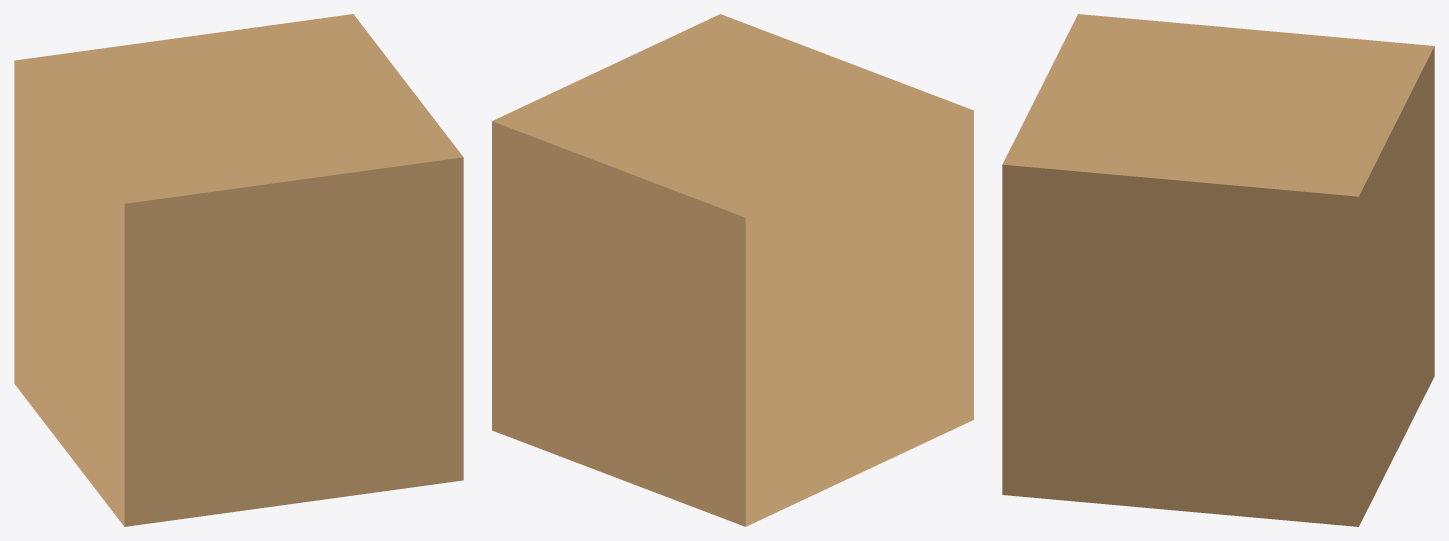
File: spline_extrapolation_display_bake.glb
3 views of the same model, side by side, from view 1: azimuth 30°, elevation 25°; view 2: azimuth 150°, elevation 25°; view 3: azimuth 270°, elevation 25° (orthographic). The views are drawn at different scales.
Parts seen in each view (by area): view 1: RockingCube; view 2: RockingCube; view 3: RockingCube.
Boxes of the visible parts, box(x1,y1,x2,y2) form: RockingCube: box(14, 14, 463, 526); RockingCube: box(492, 14, 973, 526); RockingCube: box(1002, 14, 1434, 526).
Bounding box in the file's own units: 1.19 × 1 × 1.19.
